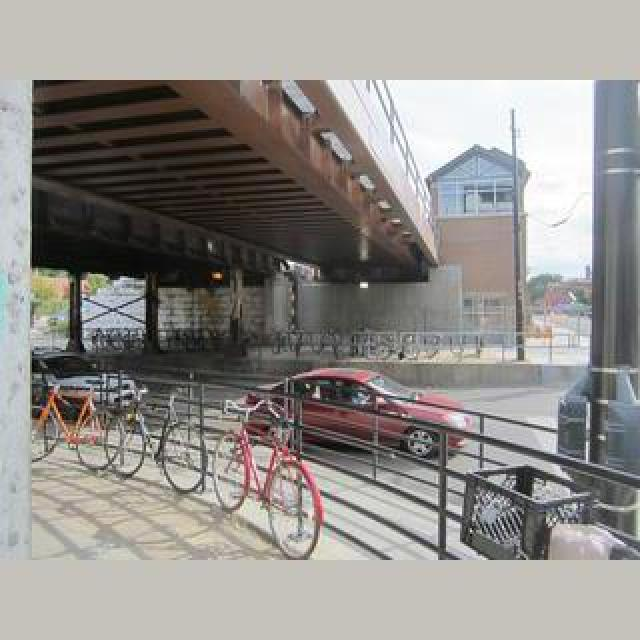Bus-Bike: (250, 368, 472, 458), (556, 366, 640, 462)
Person: (208, 394, 324, 560), (102, 380, 208, 496), (30, 376, 136, 478)
